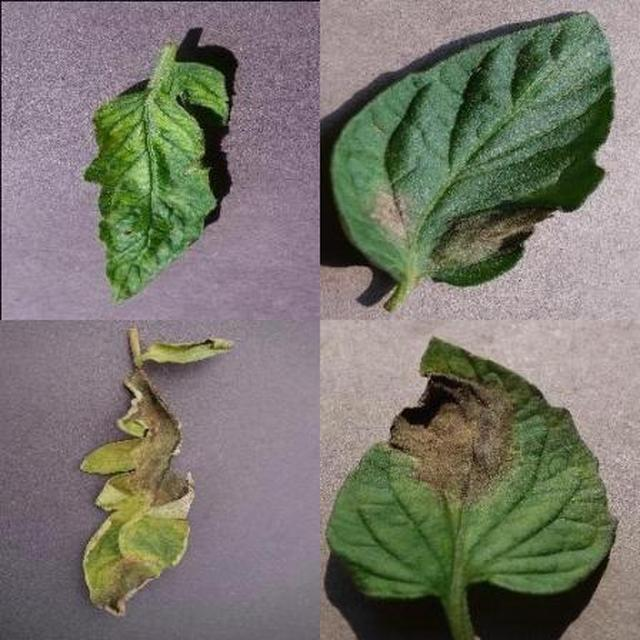Mosaic Virus Leaf: (126, 51, 640, 640)
